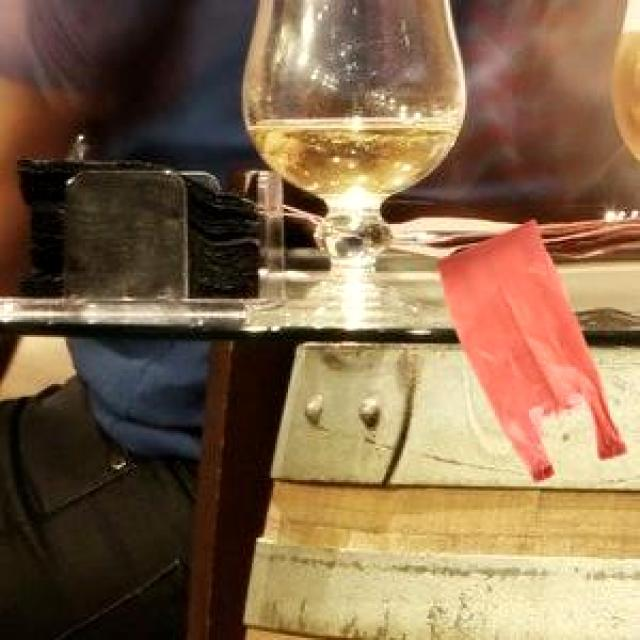Plastic_Bag: (432, 216, 624, 479)
